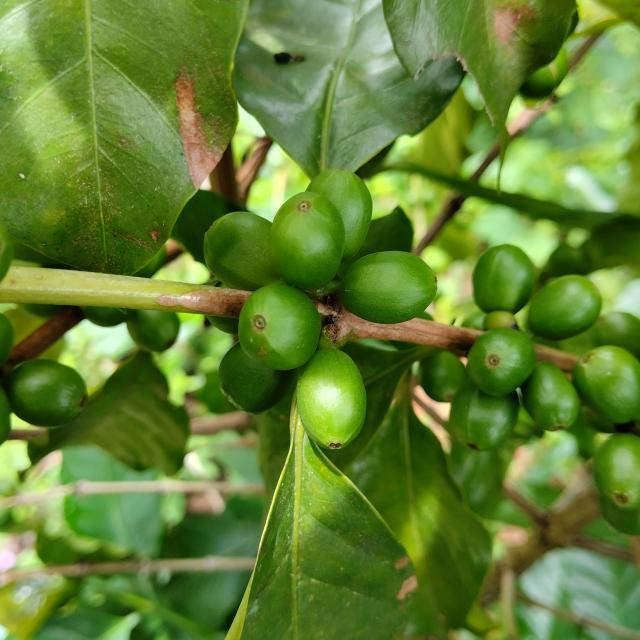green: (269, 191, 345, 290), (338, 251, 438, 324), (296, 348, 367, 450), (238, 284, 321, 371), (203, 211, 283, 291), (307, 169, 373, 261), (218, 342, 295, 414), (6, 359, 86, 427), (574, 346, 640, 424), (528, 275, 603, 341), (449, 382, 520, 451), (467, 328, 536, 397), (474, 244, 536, 314), (522, 362, 580, 432), (419, 351, 467, 402)
